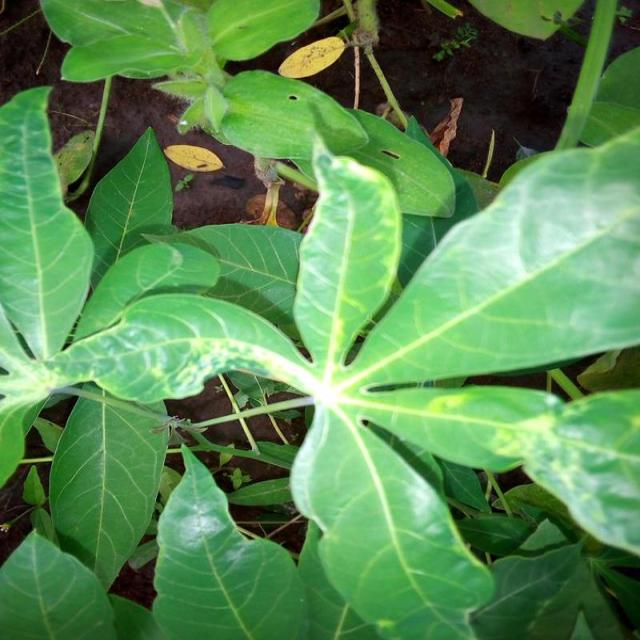cassava leaf: (0, 3, 638, 637), (344, 125, 638, 389)
